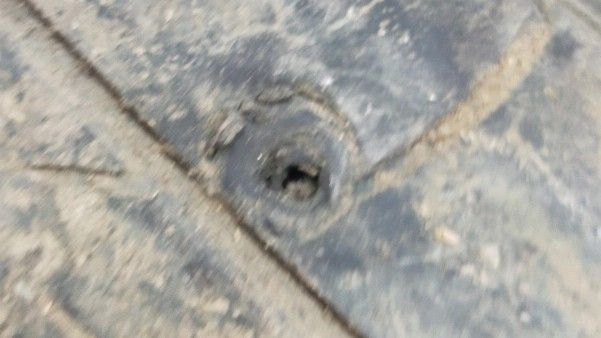tr: (243, 120, 338, 207)
